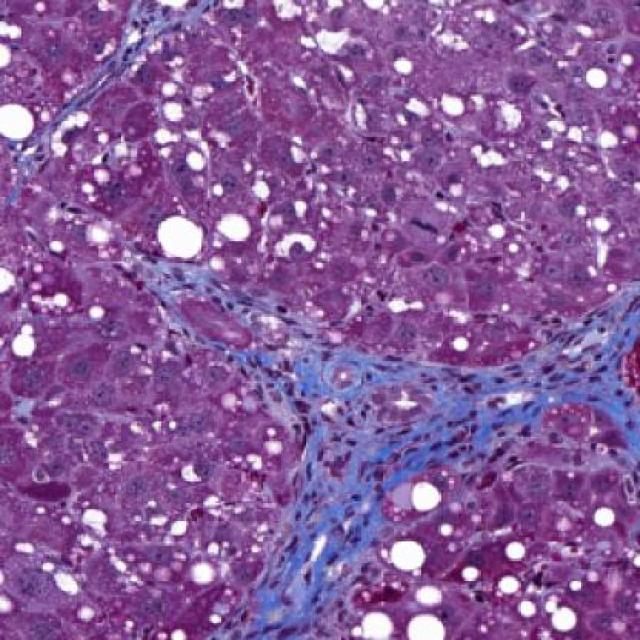fibrosis: (298, 332, 486, 484)
